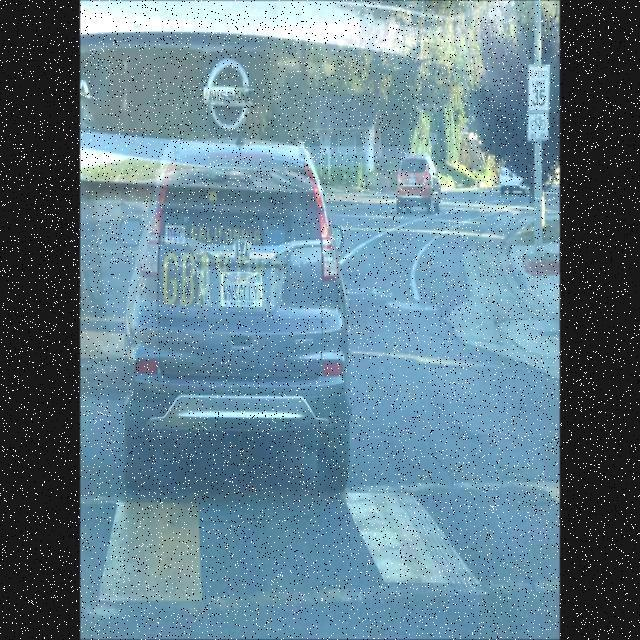LicensePlate: (221, 272, 264, 308), (409, 178, 416, 183)
